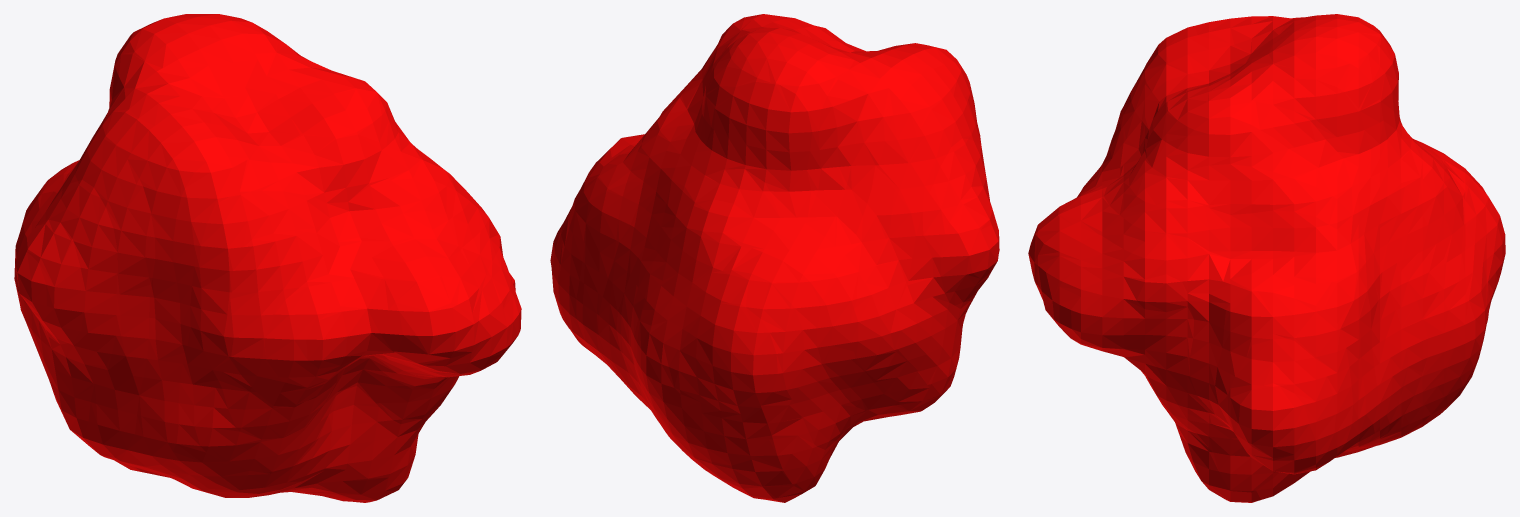
Rendered from mioC_coarse.dae.
3 renders of one model, left to right at view 1: azimuth 30°, elevation 25°; view 2: azimuth 150°, elevation 25°; view 3: azimuth 270°, elevation 25°, orthographic. The views are drawn at different scales.
Visible parts, largest first — view 1: mioC; view 2: mioC; view 3: mioC.
Part boxes in pixels (x1,y1,x2,y2): mioC: [14, 14, 521, 502]; mioC: [550, 14, 999, 502]; mioC: [1028, 14, 1505, 502].
Bounding box in the file's own units: 45.17 × 42.47 × 43.46.
